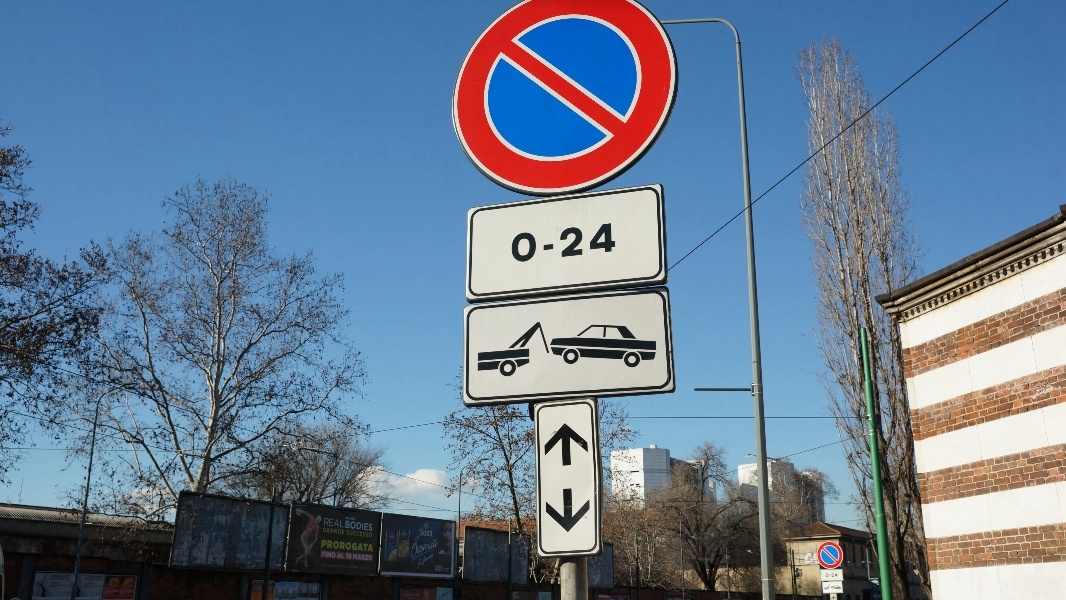text: (561, 221, 576, 258), (577, 221, 592, 258), (593, 221, 608, 258), (513, 232, 528, 263), (417, 536, 432, 559), (609, 221, 618, 258), (529, 232, 538, 263), (418, 552, 432, 570), (321, 539, 336, 553), (337, 539, 352, 553), (353, 539, 368, 553), (353, 521, 368, 532), (433, 536, 439, 559), (353, 553, 368, 562), (353, 530, 368, 538), (322, 527, 336, 535), (557, 221, 560, 258), (325, 518, 336, 528), (420, 529, 432, 538), (321, 552, 336, 559), (50, 575, 64, 582), (50, 582, 64, 589), (120, 587, 128, 599), (435, 565, 448, 572), (337, 553, 352, 559), (85, 575, 96, 582), (105, 587, 112, 598), (345, 521, 352, 532), (545, 243, 554, 251), (84, 583, 96, 589), (129, 587, 135, 599), (337, 518, 344, 528), (113, 587, 119, 598), (403, 593, 416, 598), (510, 232, 512, 263), (337, 564, 352, 568), (369, 539, 373, 553), (337, 527, 344, 535), (322, 564, 336, 568), (346, 530, 352, 538), (414, 536, 416, 559), (369, 521, 373, 532), (65, 575, 71, 582), (97, 575, 103, 582), (346, 553, 352, 560), (402, 533, 416, 536), (390, 535, 400, 539), (97, 583, 103, 589), (369, 553, 373, 562), (65, 582, 70, 589), (345, 517, 352, 521), (369, 530, 372, 538), (353, 564, 359, 568), (826, 573, 832, 577), (833, 573, 838, 577), (433, 552, 434, 570), (353, 517, 356, 521), (417, 593, 419, 598), (449, 565, 450, 572)
